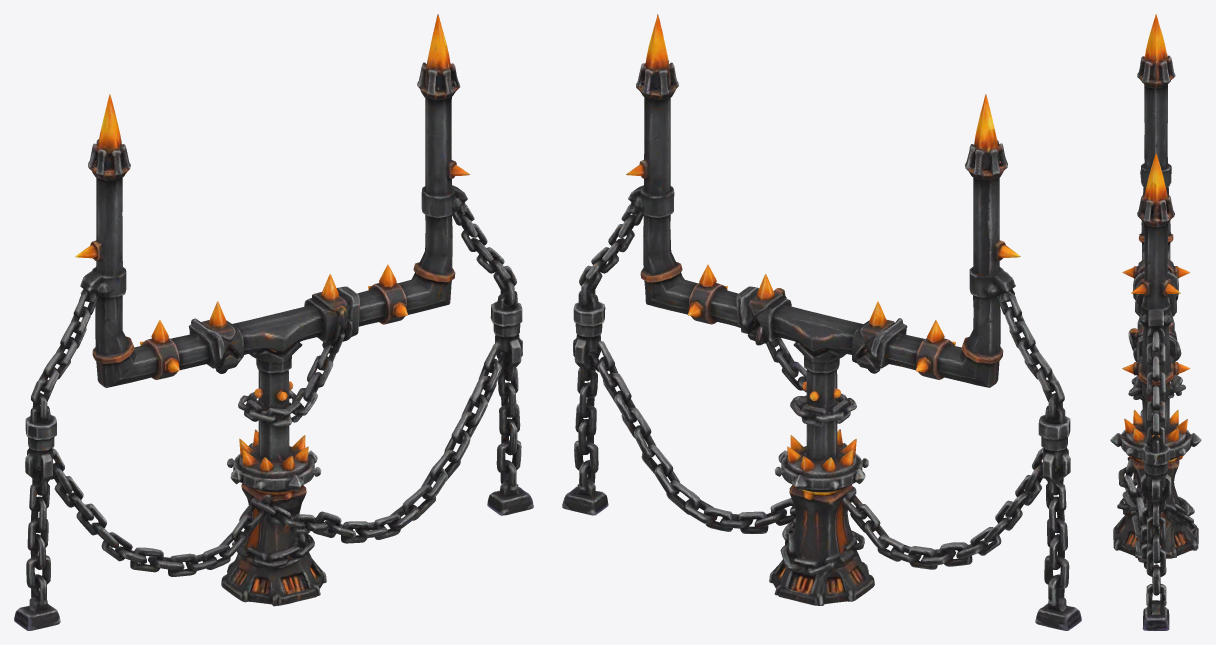
File: goalpost.glb
3 views of the same model, side by side, from view 1: azimuth 30°, elevation 25°; view 2: azimuth 150°, elevation 25°; view 3: azimuth 270°, elevation 25° (orthographic). The views are drawn at different scales.
Parts seen in each view (by area): view 1: mesh_0; view 2: mesh_0; view 3: mesh_0.
Boxes of the visible parts, left/top/right/bottom form: mesh_0: left=14, top=14, right=533, bottom=630; mesh_0: left=562, top=14, right=1081, bottom=630; mesh_0: left=1110, top=14, right=1201, bottom=630.
Bounding box in the file's own units: 1.9 × 1.9 × 0.3433.
Materials: 1 (1 with a texture image).
